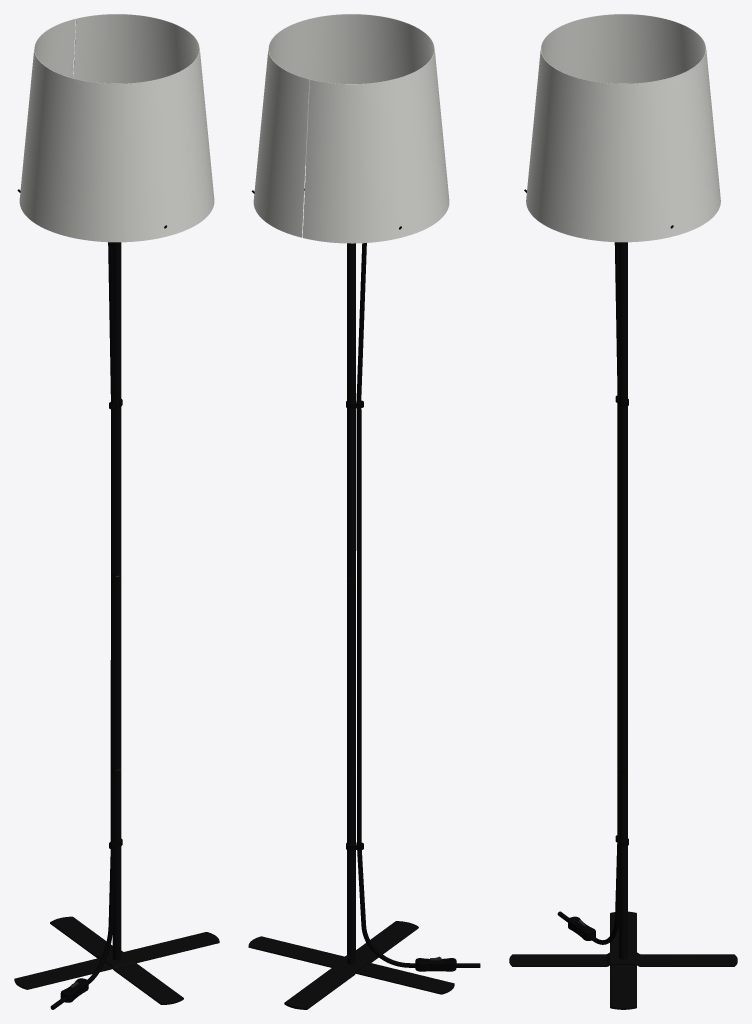
3 views of the same model, side by side, from view 1: azimuth 30°, elevation 25°; view 2: azimuth 150°, elevation 25°; view 3: azimuth 270°, elevation 25° (orthographic).
Parts seen in each view (by area): view 1: 10430368-BARLAST001; view 2: 10430368-BARLAST001; view 3: 10430368-BARLAST001.
Part boxes in pixels (x1,y1,x2,y2): 10430368-BARLAST001: (14,14,219,1009); 10430368-BARLAST001: (248,14,480,1009); 10430368-BARLAST001: (509,14,737,1009).
Bounding box in the file's own units: 0.34 × 1.5 × 0.34.
Materials: 1 (1 with a texture image).
